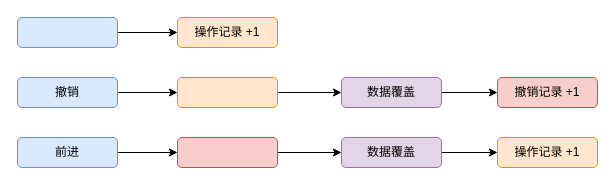
The diagram is 615 pixels wide and 185 high, and some of its shapes have lost their labels. The centre of each missing label's shape, as x and y in pixels:
"撤销记录 -1" belongs at pixel 227 152.
"操作记录 -1" belongs at pixel 227 92.
"用户操作" belongs at pixel 67 32.
